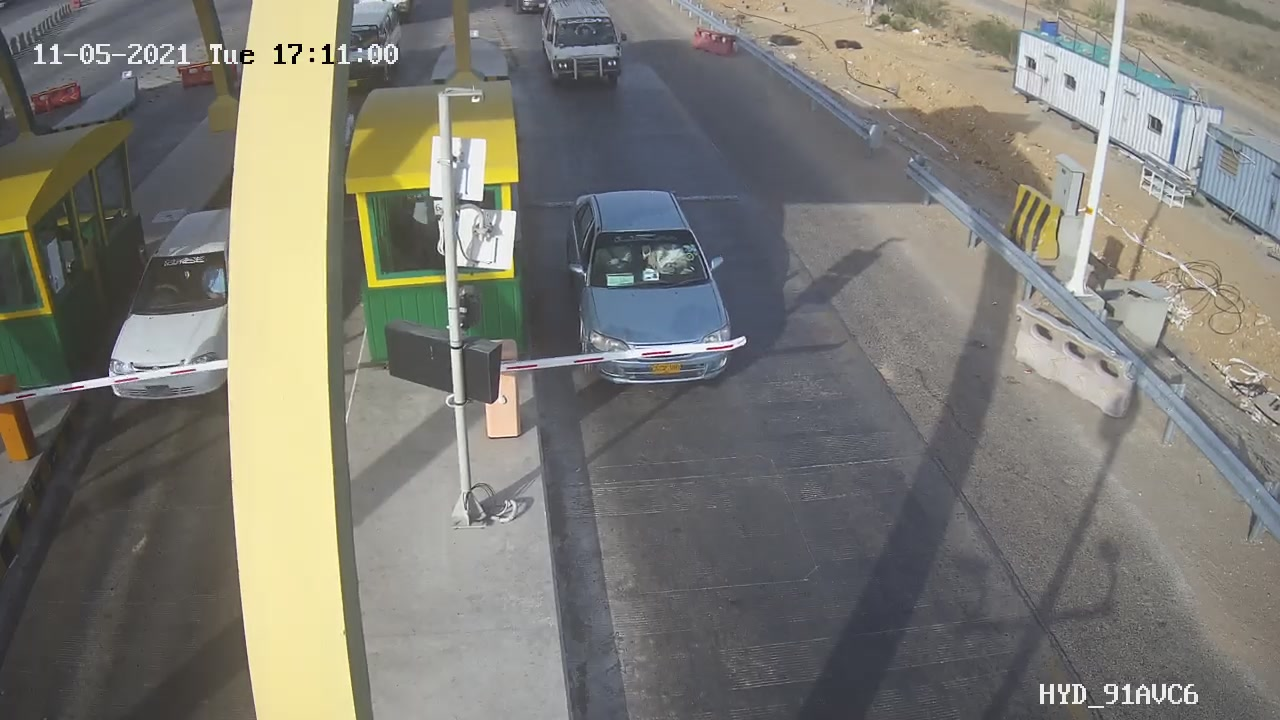F1: (546, 172, 760, 408)
